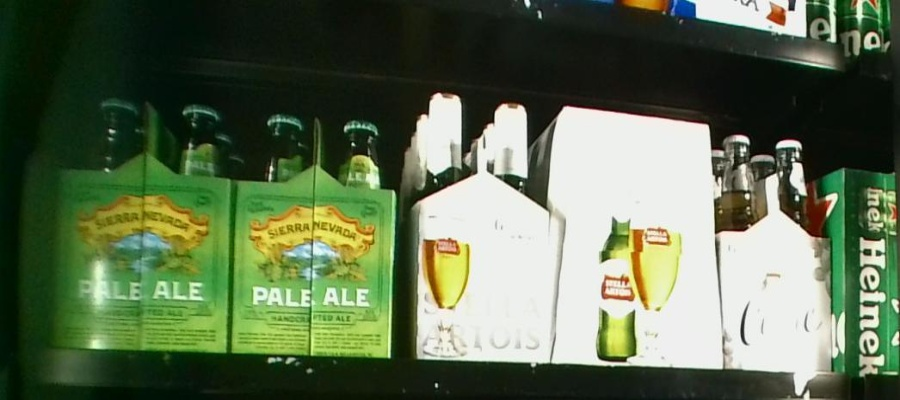bottle: (55, 95, 234, 356), (550, 104, 723, 369), (403, 88, 556, 361), (231, 111, 396, 354), (720, 130, 831, 372)
